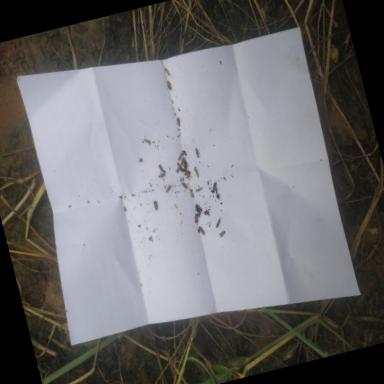pbw: (213, 216, 222, 228), (150, 198, 158, 211), (162, 184, 172, 194), (193, 166, 200, 180), (188, 187, 195, 201), (174, 115, 182, 127), (210, 180, 218, 192), (198, 225, 206, 237), (164, 80, 172, 92), (192, 214, 199, 226), (164, 66, 170, 78), (182, 158, 188, 170), (143, 137, 151, 145), (176, 152, 184, 160), (184, 171, 192, 179), (174, 166, 182, 174), (181, 181, 188, 190), (179, 157, 186, 166), (218, 230, 226, 237), (195, 148, 200, 158), (194, 186, 204, 191), (158, 172, 166, 178), (176, 161, 182, 169), (183, 169, 190, 175), (158, 164, 163, 172), (180, 166, 186, 172)
